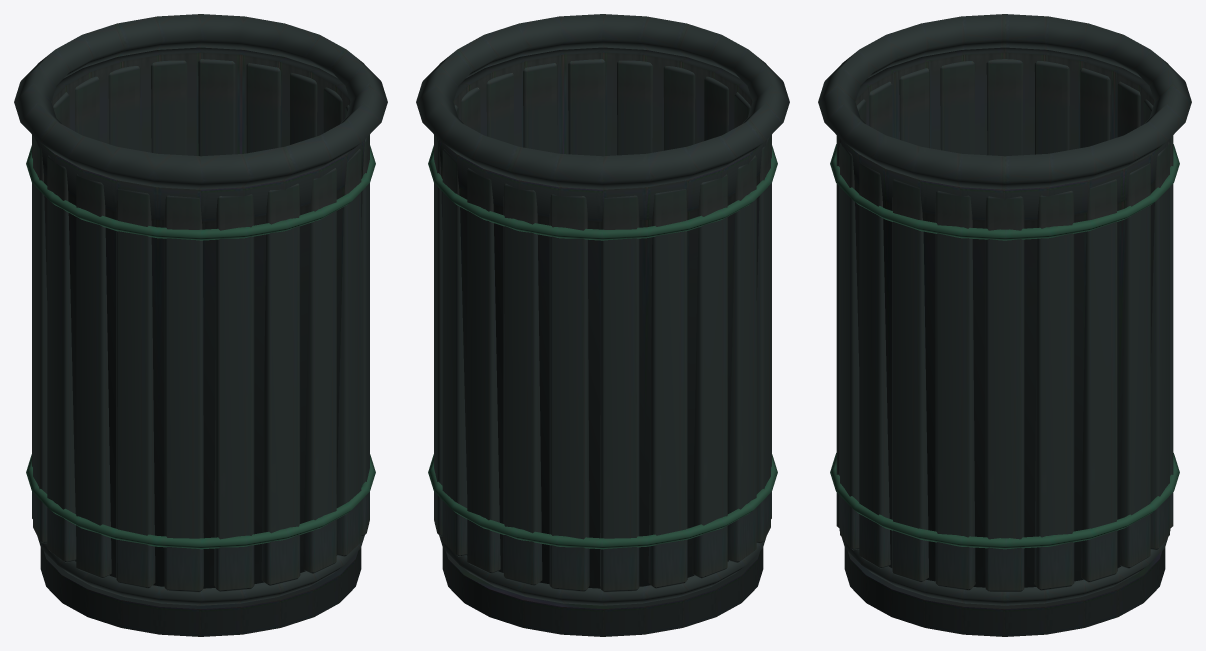
The model's file is waste-bin.glb.
3 renders of one model, left to right at view 1: azimuth 30°, elevation 25°; view 2: azimuth 150°, elevation 25°; view 3: azimuth 270°, elevation 25°, orthographic.
Visible parts, largest first — view 1: Waste-binBody; view 2: Waste-binBody; view 3: Waste-binBody.
Boxes of the visible parts, <box> form: Waste-binBody: <box>14,14,387,636</box>; Waste-binBody: <box>416,14,789,636</box>; Waste-binBody: <box>818,14,1191,636</box>.
Bounding box in the file's own units: 0.56 × 0.8 × 0.56.
Materials: 1 (1 with a texture image).
